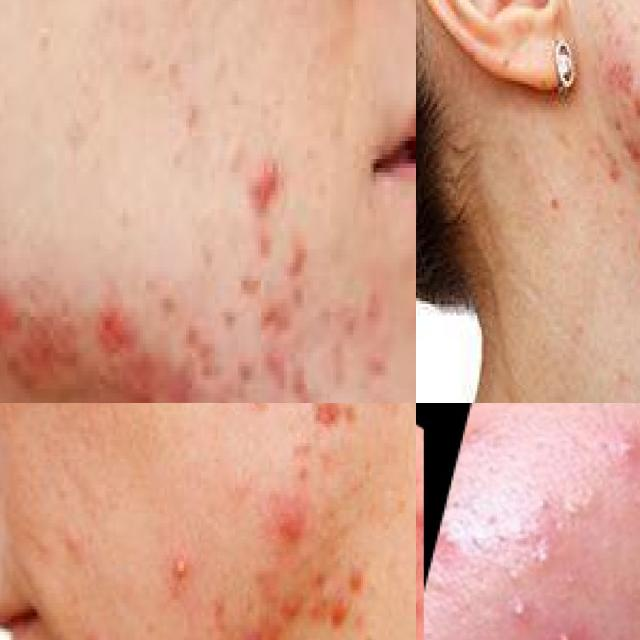acne_scars: (314, 403, 376, 456), (416, 484, 423, 546)
comedone: (508, 462, 618, 550)
pustule: (480, 577, 542, 640), (160, 536, 206, 619), (600, 403, 640, 483), (532, 606, 599, 640)
sebo-crystan-conglo: (218, 593, 297, 640)
